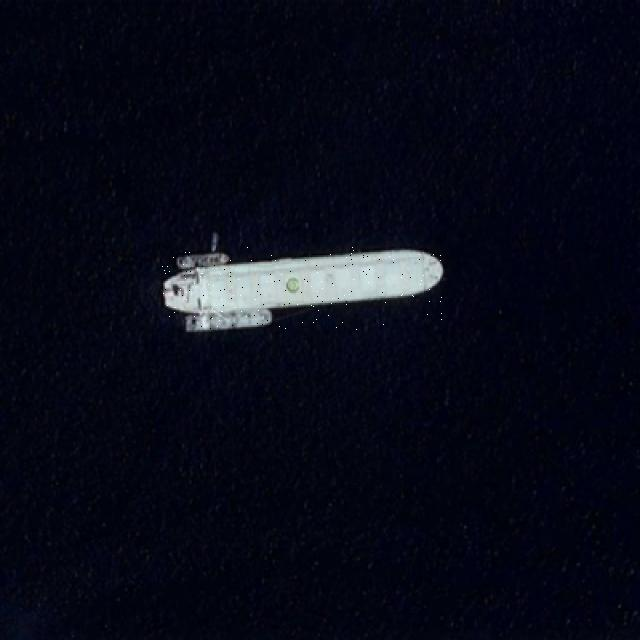boat: (162, 247, 443, 330)
